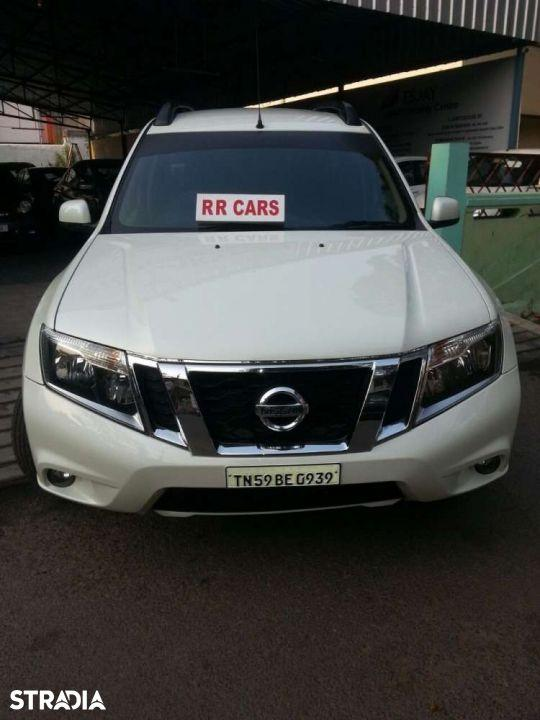License-Plate: (224, 453, 349, 507)
